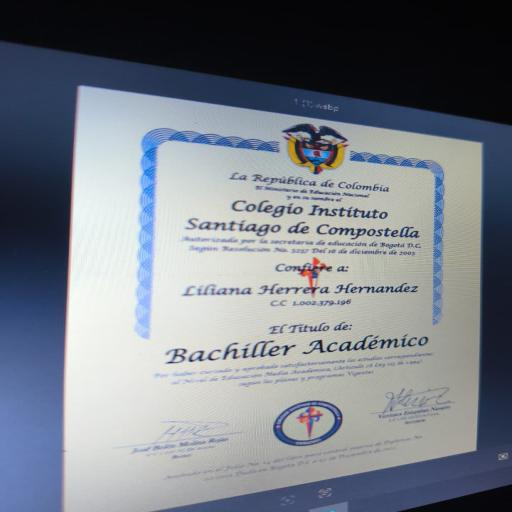bachillerato: (147, 327, 443, 371)
diploma: (65, 88, 480, 511)
escudo: (270, 120, 370, 180)
firma: (123, 415, 244, 467), (353, 380, 467, 432)
institucion: (171, 192, 436, 247)
nombre: (171, 277, 429, 304)
